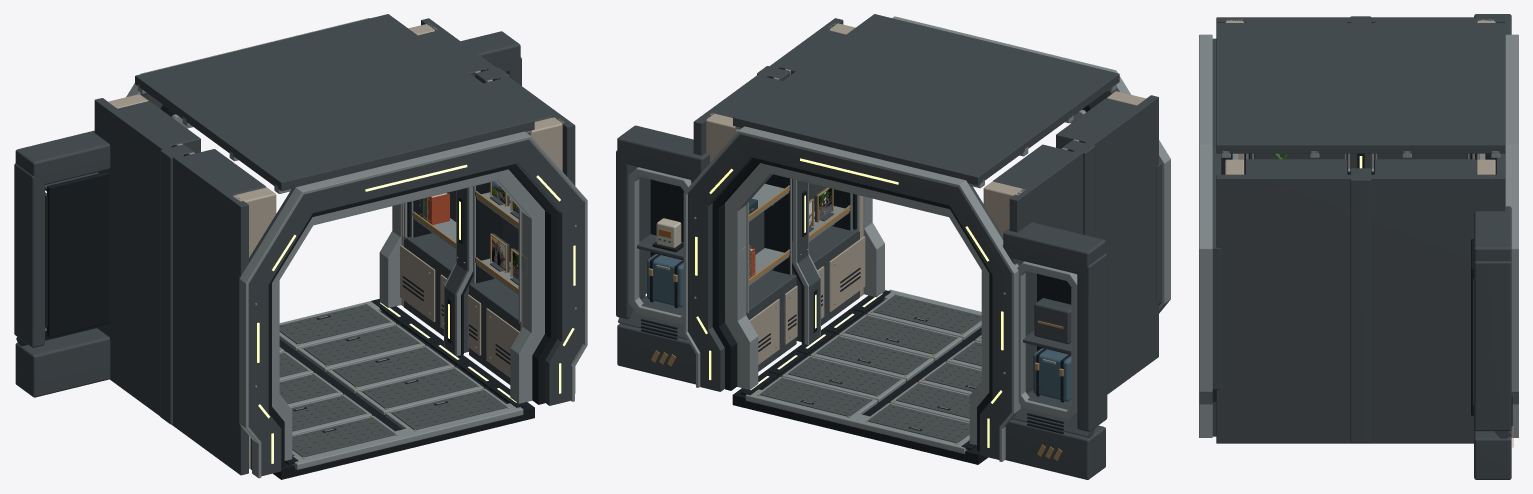
Rendered from cruz-del-sur-transition.glb.
3 renders of one model, left to right at view 1: azimuth 30°, elevation 25°; view 2: azimuth 150°, elevation 25°; view 3: azimuth 270°, elevation 25°, orthographic. The views are drawn at different scales.
Parts seen in each view (by area): view 1: TRANSITION_STATIC_TRANSITION_PBR_TRANSITION_Graphite_painted, TRANSITION_STATIC_TRANSITION_PBR_TRANSITION_Brushed_titanium, TRANSITION_STATIC_TRANSITION_PBR_TRANSITION_Recessed_pressur, TRANSITION_STATIC_TRANSITION_PBR_TRANSITION_Dark_manganese_t, TRANSITION_STATIC_TRANSITION_PBR_TRANSITION_Warm_ceramic_pan, TRANSITION_STATIC_TRANSITION_PBR_TRANSITION_Warm_amber_diffu, TRANSITION_STATIC_TRANSITION_PBR_TRANSITION_Anodized_warm_ed, TRANSITION_STATIC_TRANSITION_PBR_SHELVES_Curated_textile_cor; view 2: TRANSITION_STATIC_TRANSITION_PBR_TRANSITION_Graphite_painted, TRANSITION_STATIC_TRANSITION_PBR_TRANSITION_Brushed_titanium, TRANSITION_STATIC_TRANSITION_PBR_TRANSITION_Recessed_pressur, TRANSITION_STATIC_TRANSITION_PBR_TRANSITION_Dark_manganese_t, TRANSITION_STATIC_TRANSITION_PBR_TRANSITION_Warm_ceramic_pan, TRANSITION_STATIC_TRANSITION_PBR_TRANSITION_Technical_folio_, TRANSITION_STATIC_TRANSITION_PBR_TRANSITION_Anodized_warm_ed, TRANSITION_STATIC_TRANSITION_PBR_TRANSITION_Warm_amber_diffu, TRANSITION_STATIC_TRANSITION_PBR_SHELVES_Instrument_ceramic; view 3: TRANSITION_STATIC_TRANSITION_PBR_TRANSITION_Graphite_painted, TRANSITION_STATIC_TRANSITION_PBR_TRANSITION_Brushed_titanium, TRANSITION_STATIC_TRANSITION_PBR_TRANSITION_Recessed_pressur, TRANSITION_STATIC_TRANSITION_PBR_TRANSITION_Warm_ceramic_pan.
Part boxes in pixels (x1,y1,x2,y2): TRANSITION_STATIC_TRANSITION_PBR_TRANSITION_Graphite_painted: [14, 14, 582, 476]; TRANSITION_STATIC_TRANSITION_PBR_TRANSITION_Brushed_titanium: [126, 18, 587, 478]; TRANSITION_STATIC_TRANSITION_PBR_TRANSITION_Recessed_pressur: [47, 69, 557, 479]; TRANSITION_STATIC_TRANSITION_PBR_TRANSITION_Dark_manganese_t: [279, 304, 506, 456]; TRANSITION_STATIC_TRANSITION_PBR_TRANSITION_Warm_ceramic_pan: [108, 23, 563, 468]; TRANSITION_STATIC_TRANSITION_PBR_TRANSITION_Warm_amber_diffu: [257, 164, 575, 463]; TRANSITION_STATIC_TRANSITION_PBR_TRANSITION_Anodized_warm_ed: [279, 182, 518, 458]; TRANSITION_STATIC_TRANSITION_PBR_SHELVES_Curated_textile_cor: [427, 193, 449, 224]; TRANSITION_STATIC_TRANSITION_PBR_TRANSITION_Graphite_painted: [616, 14, 1161, 479]; TRANSITION_STATIC_TRANSITION_PBR_TRANSITION_Brushed_titanium: [628, 16, 1170, 461]; TRANSITION_STATIC_TRANSITION_PBR_TRANSITION_Recessed_pressur: [641, 68, 1096, 464]; TRANSITION_STATIC_TRANSITION_PBR_TRANSITION_Dark_manganese_t: [759, 295, 981, 442]; TRANSITION_STATIC_TRANSITION_PBR_TRANSITION_Warm_ceramic_pan: [706, 23, 1146, 364]; TRANSITION_STATIC_TRANSITION_PBR_TRANSITION_Technical_folio_: [647, 254, 1071, 401]; TRANSITION_STATIC_TRANSITION_PBR_TRANSITION_Anodized_warm_ed: [648, 186, 1063, 460]; TRANSITION_STATIC_TRANSITION_PBR_TRANSITION_Warm_amber_diffu: [695, 158, 1003, 447]; TRANSITION_STATIC_TRANSITION_PBR_SHELVES_Instrument_ceramic: [656, 218, 681, 247]; TRANSITION_STATIC_TRANSITION_PBR_TRANSITION_Graphite_painted: [1212, 14, 1511, 479]; TRANSITION_STATIC_TRANSITION_PBR_TRANSITION_Brushed_titanium: [1199, 34, 1518, 437]; TRANSITION_STATIC_TRANSITION_PBR_TRANSITION_Recessed_pressur: [1221, 22, 1512, 426]; TRANSITION_STATIC_TRANSITION_PBR_TRANSITION_Warm_ceramic_pan: [1225, 19, 1495, 174].
Bounding box in the file's own units: 5.8 × 3.36 × 3.32.
Materials: 45 (24 with a texture image).
